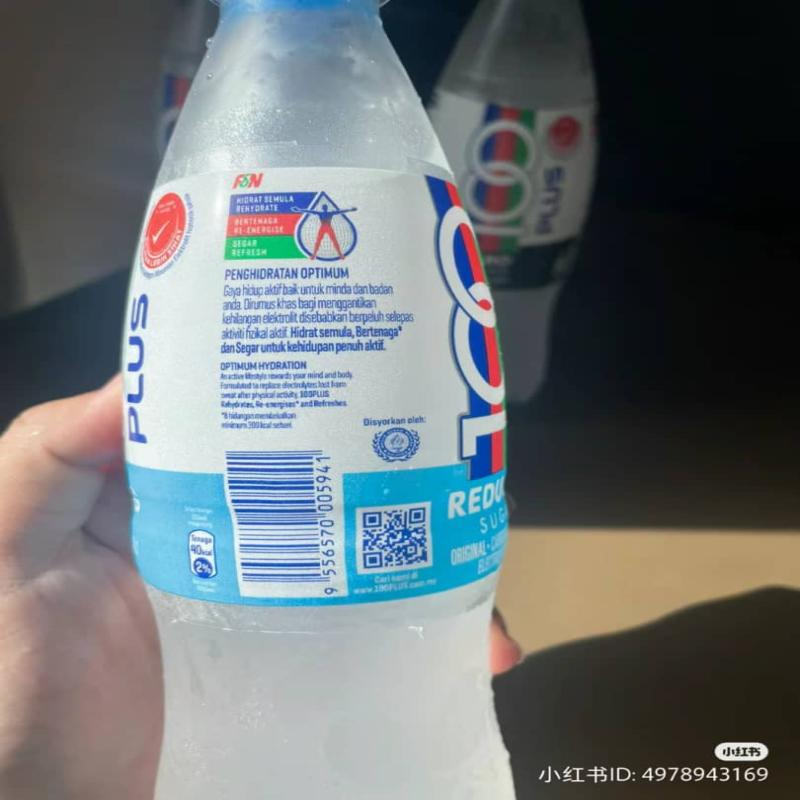botella: (112, 0, 531, 800), (421, 0, 601, 407)
